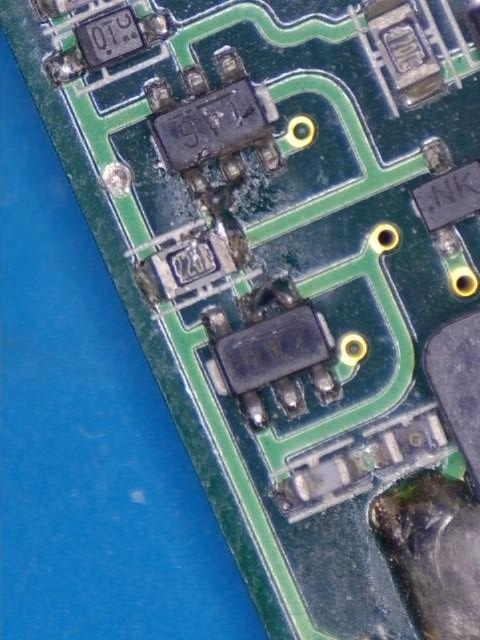pcb_defect: (180, 151, 248, 274), (234, 275, 301, 327)
